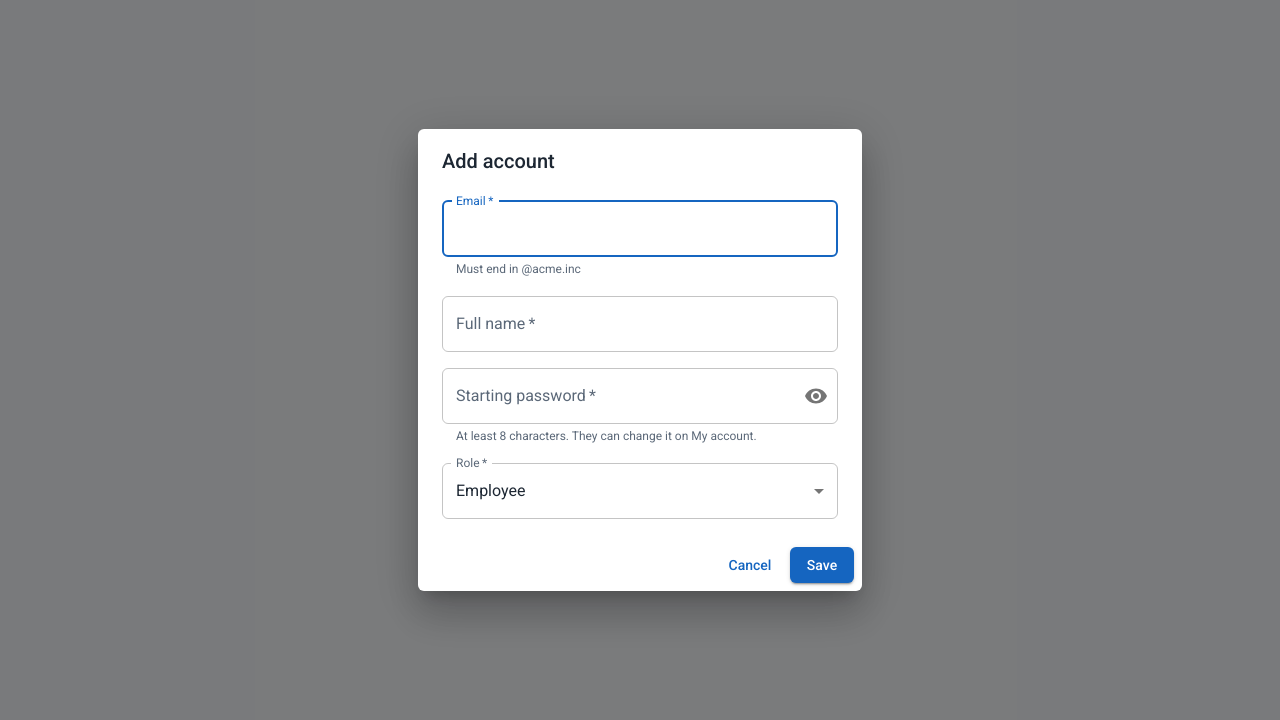
UserDialog › asks for a sub-specialty and phone only for engineers
The image size is (1280, 720).
Expected: the dropdown labelled "Sub-specialty" is not shown
Click the dropdown named "Role". click: (491, 491)
box: 456,481 -> 526,500
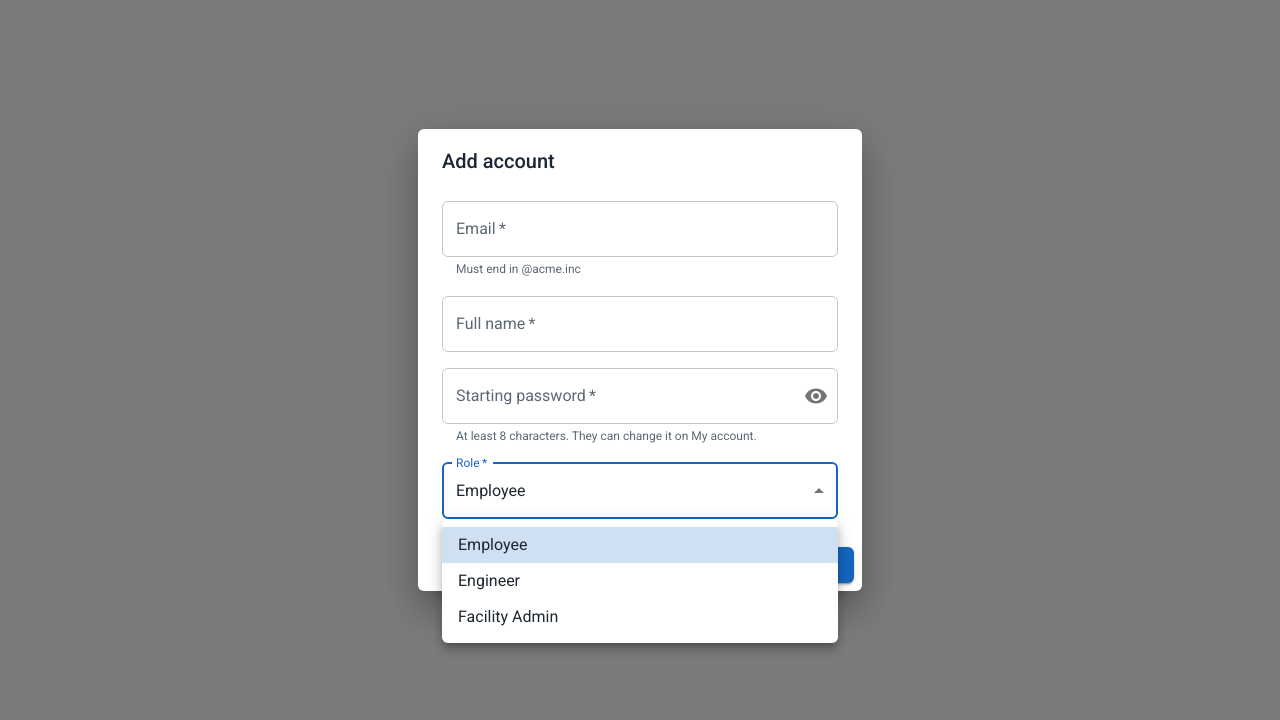
Click the option "Engineer". click: (489, 580)
box: 458,571 -> 520,590
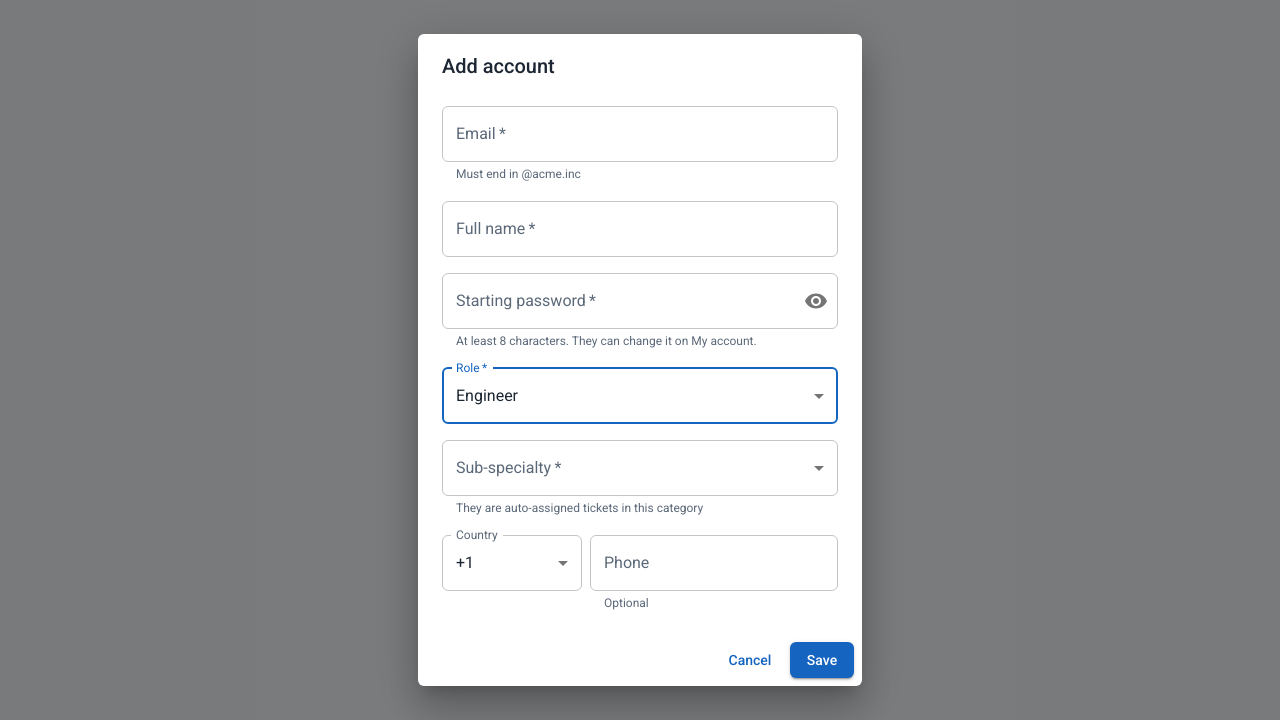
Result: the dropdown named "Sub-specialty" is shown at 442,440 -> 838,496
Result: the field labelled "Phone" is shown at 590,535 -> 838,591
